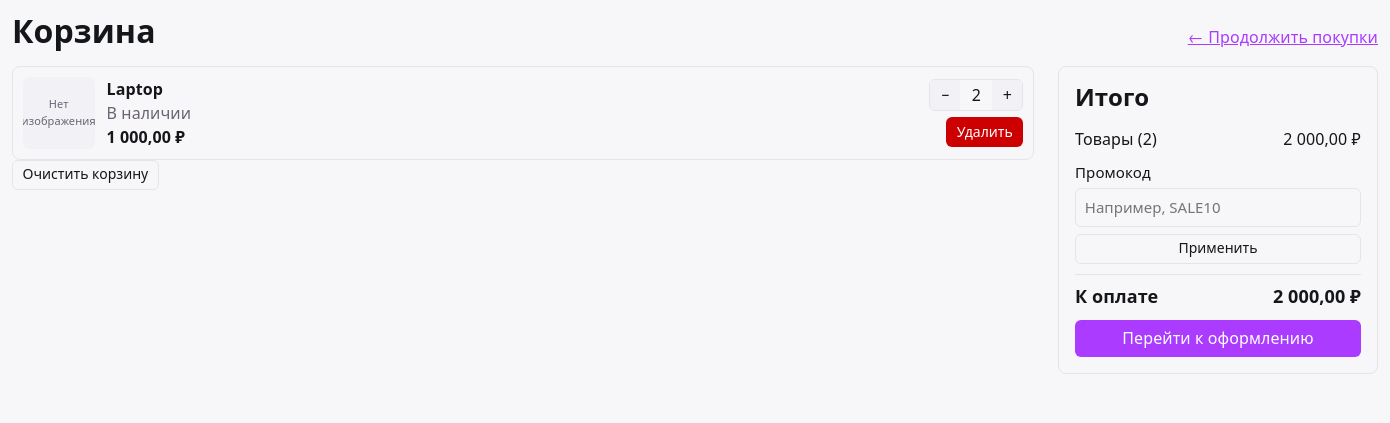
CartPage › промокод: пустой ввод → ошибка
Click the button "Применить": (1218, 248) [1075,234,1361,264]
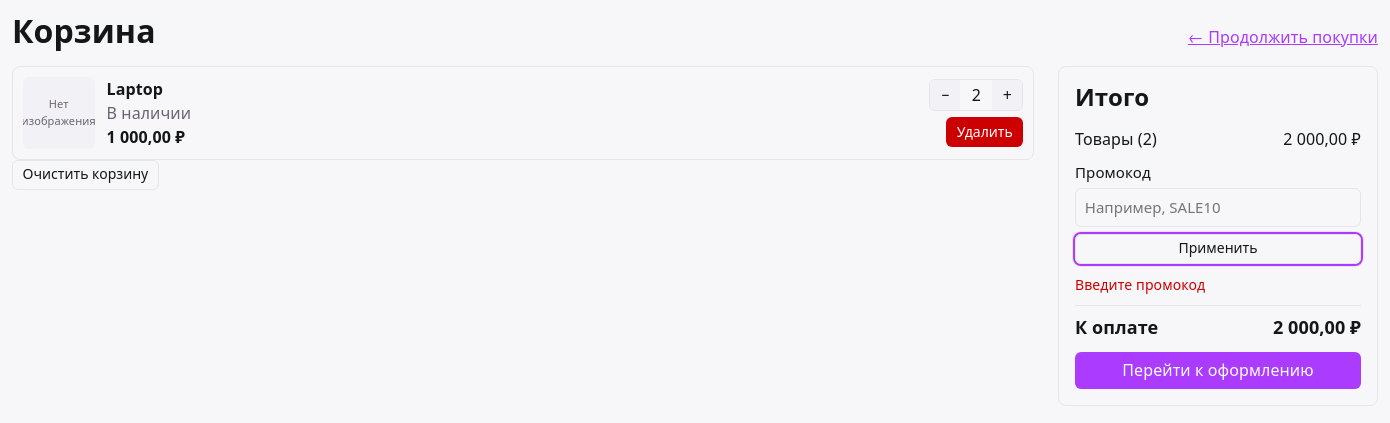
expect the text "Введите промокод" is shown: met, box [1075,275,1205,294]
